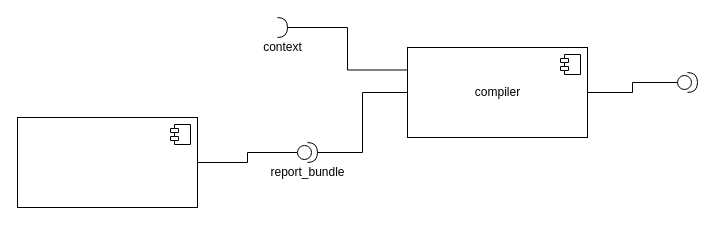
Image size: 718x225. Some labels were removed from this diagram. The centre of each missing label's shape, as x and y in pixels:
"code" goes at (687,82).
"lexer" goes at (107,162).
